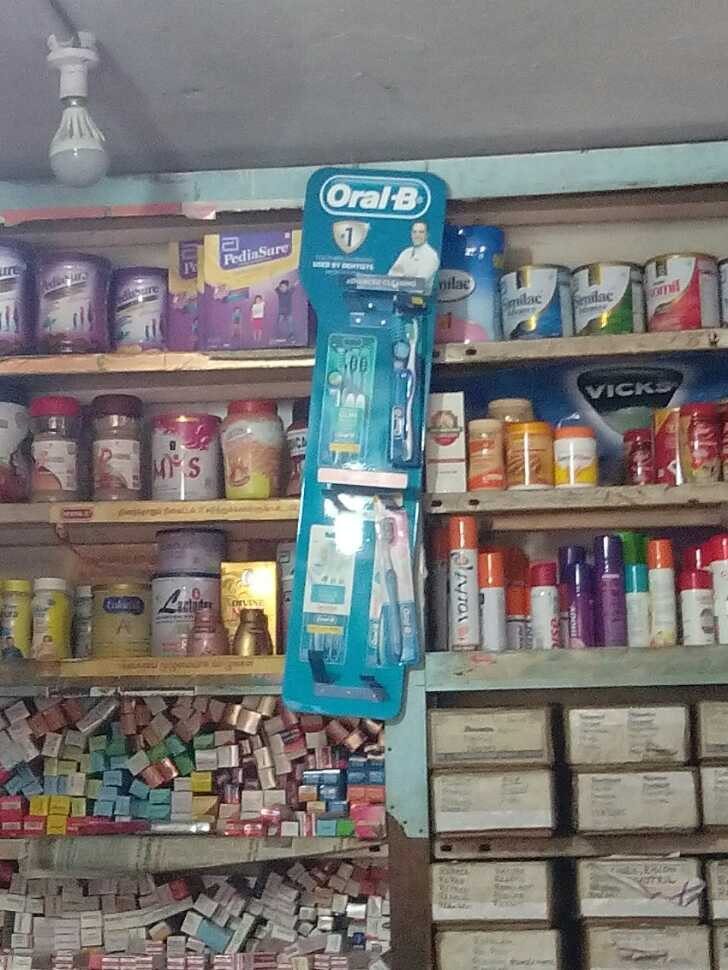oralb: (374, 505, 417, 666), (386, 301, 422, 461)
